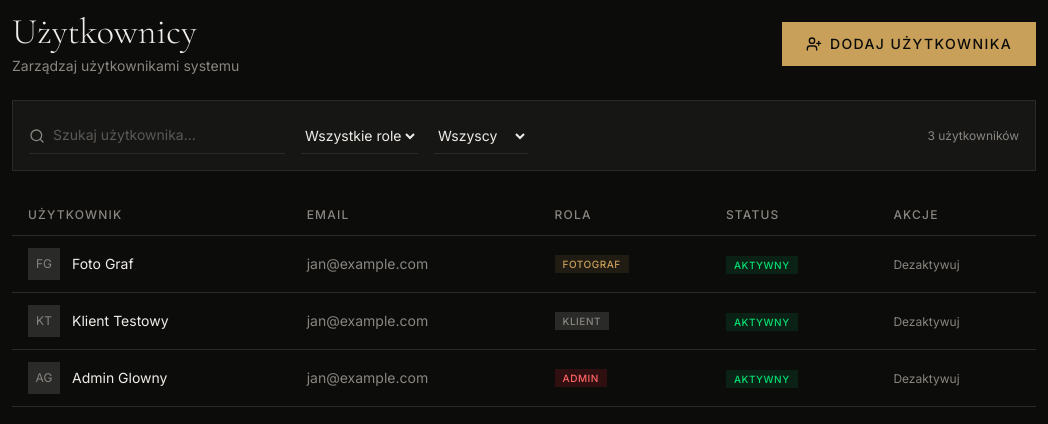
Test: AdminUsers › The role filter matches the role a user actually holds, so a photographer never appears under clients
Expected: the text "Foto Graf" is shown, [72,254,134,274]
Select "Fotograf" in the 1st dropdown: (360, 136) [301,118,418,154]
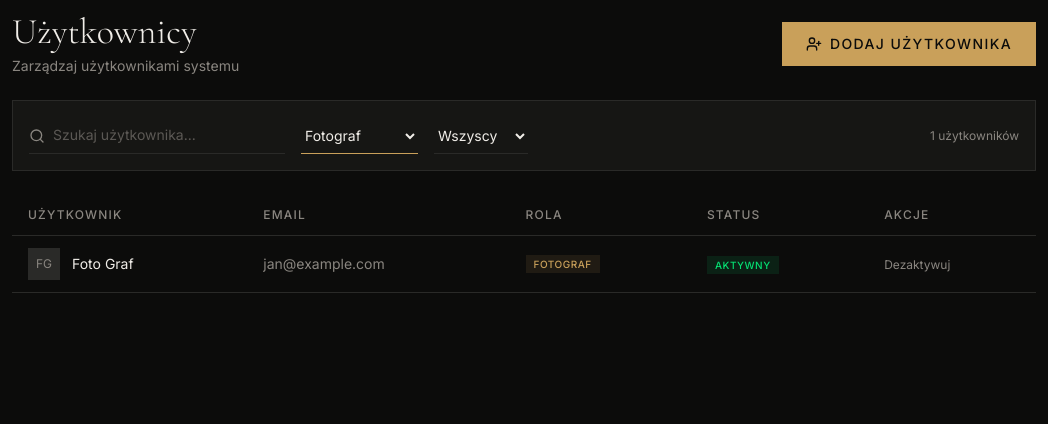
Expected: the text "Foto Graf" is shown, [72,254,134,274]
Now the text "Klient Testowy" is gone
Now the text "Admin Glowny" is gone
